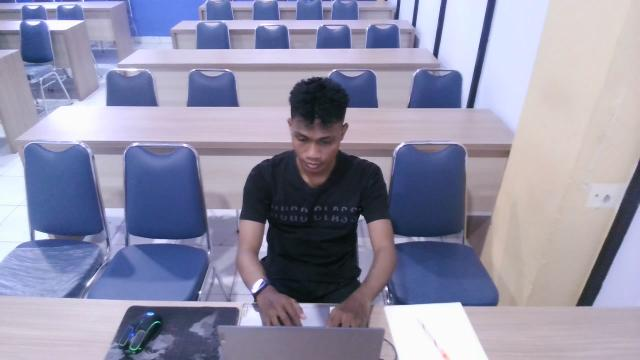Normal_Focus: (199, 59, 425, 360)
